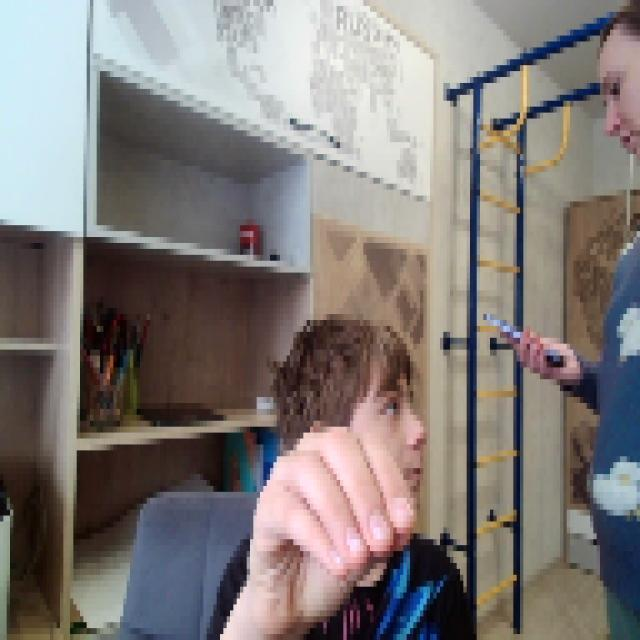left_click: (247, 415, 413, 622)
